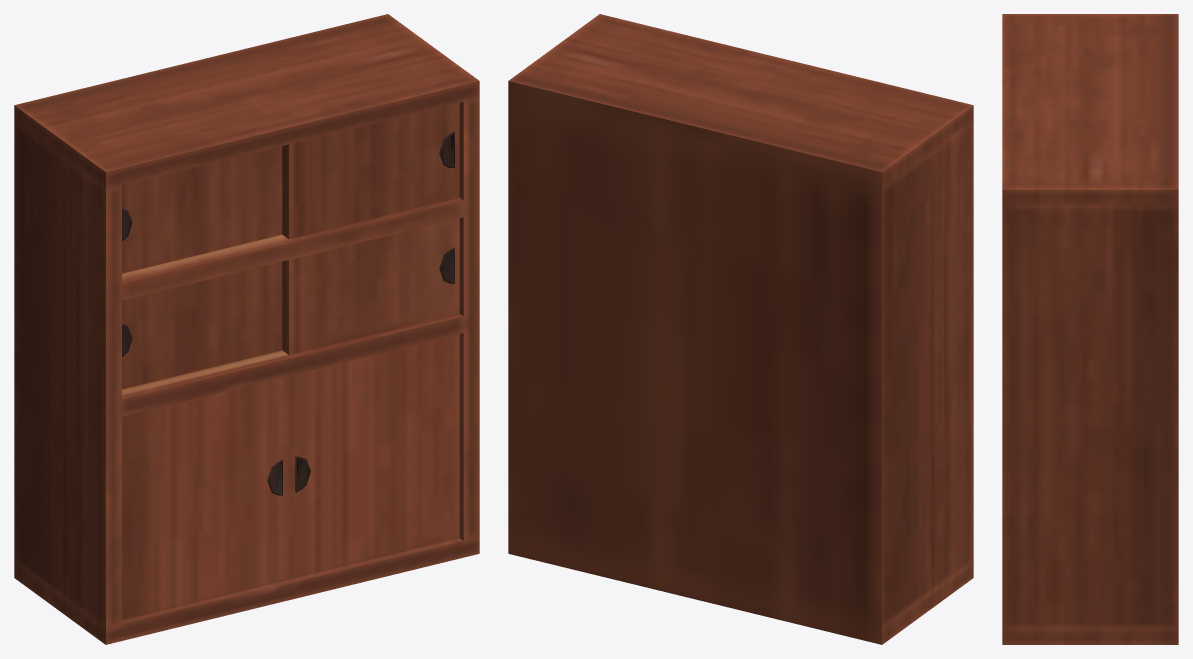
The model's file is objects_un_t03woodshelf01.gltf.
The picture shows the model from 3 angles, left to right: view 1: azimuth 30°, elevation 25°; view 2: azimuth 150°, elevation 25°; view 3: azimuth 270°, elevation 25°; orthographic projection. The views are drawn at different scales.
Visible parts, largest first — view 1: um_objects_un_t03woodshelf01_model_lod0Shape:objects_un_t03w, um_objects_un_t03woodshelf01_model_lod2Shape:objects_un_t03w, um_objects_un_t03woodshelf01_model_lod1Shape:objects_un_t03w; view 2: um_objects_un_t03woodshelf01_model_lod0Shape:objects_un_t03w; view 3: um_objects_un_t03woodshelf01_model_lod0Shape:objects_un_t03w.
Boxes of the visible parts, x1,y1,x2,y2 form: um_objects_un_t03woodshelf01_model_lod0Shape:objects_un_t03w: (14, 14, 479, 644); um_objects_un_t03woodshelf01_model_lod2Shape:objects_un_t03w: (122, 102, 463, 622); um_objects_un_t03woodshelf01_model_lod1Shape:objects_un_t03w: (122, 133, 455, 495); um_objects_un_t03woodshelf01_model_lod0Shape:objects_un_t03w: (508, 14, 973, 644); um_objects_un_t03woodshelf01_model_lod0Shape:objects_un_t03w: (1002, 14, 1178, 644).
Size of the model in its own units: 1.82 by 2.2 by 0.7715.
Materials: 1 (1 with a texture image).
